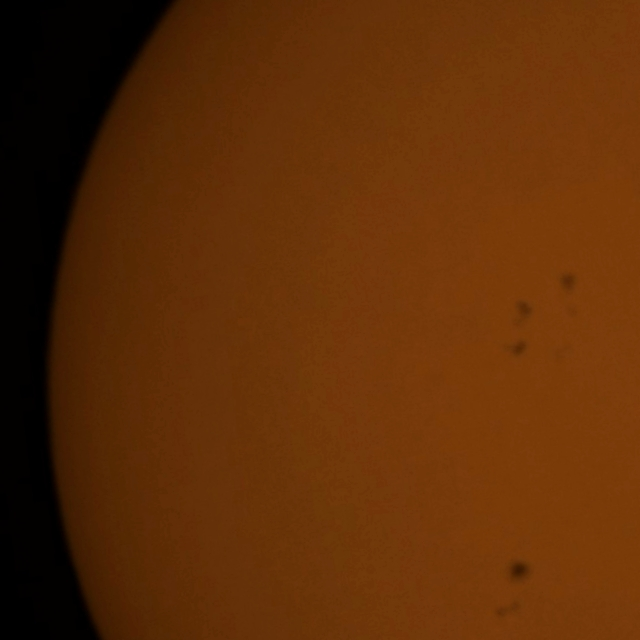sunspot: (510, 299, 534, 330), (508, 560, 532, 586), (503, 337, 528, 360), (558, 270, 576, 296)
